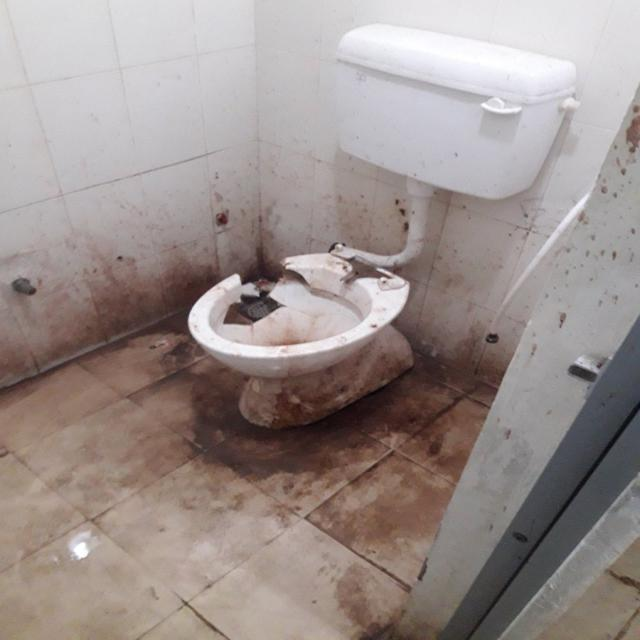dirty_floor: (1, 2, 637, 637), (1, 314, 499, 638)
